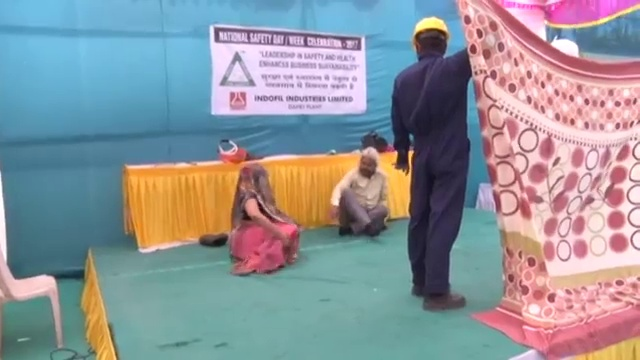helmet: (410, 15, 450, 40)
helmet_off: (357, 146, 380, 178), (241, 163, 265, 183)
helmet_on: (410, 16, 450, 62)
person: (389, 14, 476, 313), (227, 162, 301, 276), (329, 147, 389, 236)
